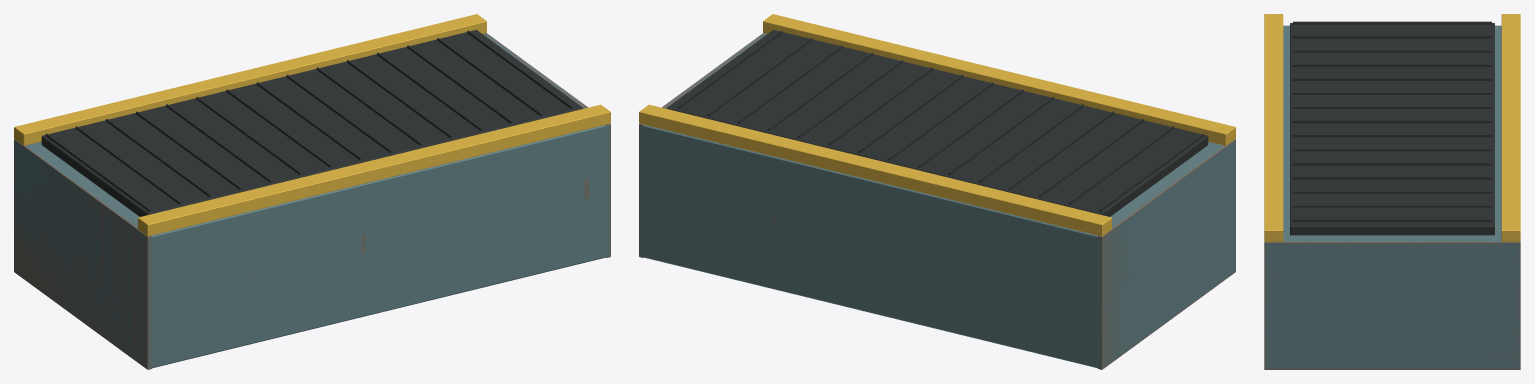
Rendered from sorting_conveyor_base.glb.
3 renders of one model, left to right at view 1: azimuth 30°, elevation 25°; view 2: azimuth 150°, elevation 25°; view 3: azimuth 270°, elevation 25°, orthographic. The views are drawn at different scales.
Visible parts, largest first — view 1: sorting_conveyor_base; view 2: sorting_conveyor_base; view 3: sorting_conveyor_base.
Part boxes in pixels (left/top/right/bottom): sorting_conveyor_base: left=14, top=14, right=610, bottom=369; sorting_conveyor_base: left=639, top=14, right=1235, bottom=369; sorting_conveyor_base: left=1264, top=14, right=1520, bottom=369.
Bounding box in the file's own units: 4 × 1.2 × 2.
